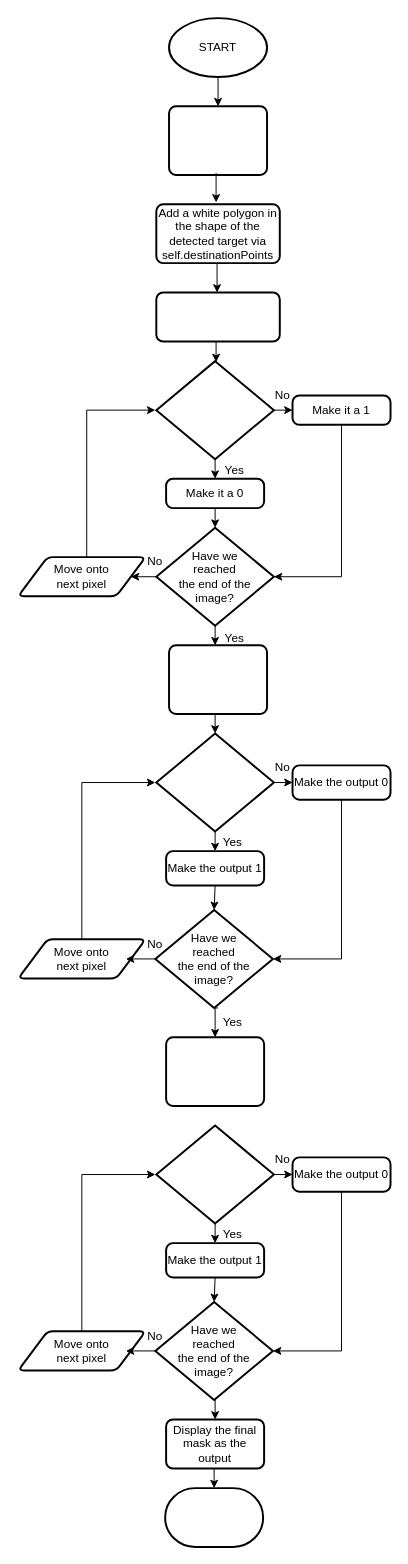
Some shapes in this 408 by 1564 pixel diagram are drawn without their labels. The box of each missing label's shape, as (x1, y1, x2, y2) in pixels:
Apply a bitwise AND between the webcam frame and the mask: (168, 644, 268, 714)
Apply a bitwise NOT operation on this mask: (155, 291, 280, 342)
Apply a bitwise OR between the webcam frame and the new mask: (165, 1036, 265, 1106)
Are both image's respective colour bit a 1?: (155, 732, 274, 832)
Are one of the image's respective colour bit a 1?: (155, 1124, 274, 1224)
Create a mask of 0's in the shape of the webcam via it's dimensions: (168, 105, 268, 175)
END: (164, 1487, 264, 1547)
Is the colour bit a 1?: (155, 360, 274, 460)
